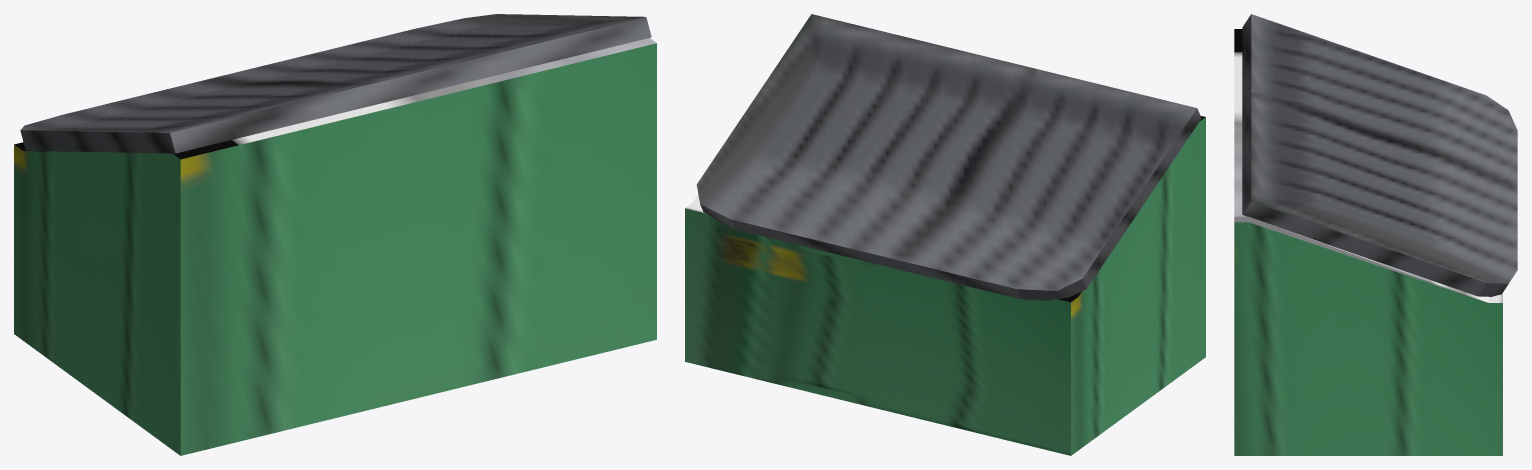
The model's file is Dumpster.fbx.
3 views of the same model, side by side, from view 1: azimuth 30°, elevation 25°; view 2: azimuth 150°, elevation 25°; view 3: azimuth 270°, elevation 25° (orthographic). The views are drawn at different scales.
Parts seen in each view (by area): view 1: Dumpster, DumpsterLid; view 2: DumpsterLid, Dumpster; view 3: DumpsterLid, Dumpster.
Boxes of the visible parts, x1,y1,x2,y2 form: Dumpster: (14, 38, 656, 455); DumpsterLid: (20, 14, 651, 153); DumpsterLid: (696, 14, 1201, 300); Dumpster: (685, 116, 1205, 455); DumpsterLid: (1242, 14, 1517, 296); Dumpster: (1234, 29, 1502, 455).
Size of the model in its own units: 409 by 256 by 259.
